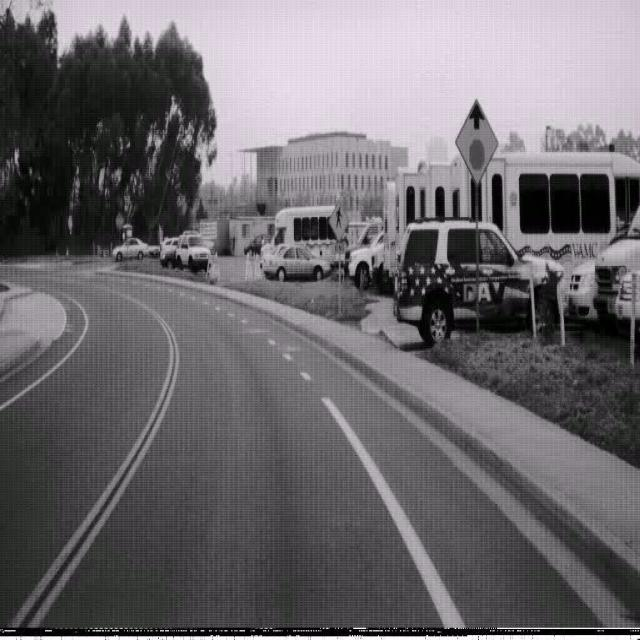pedestrianCrossing: (328, 200, 348, 243)
